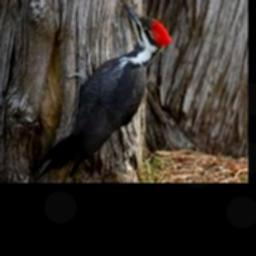Woodpecker: (35, 1, 174, 181)
